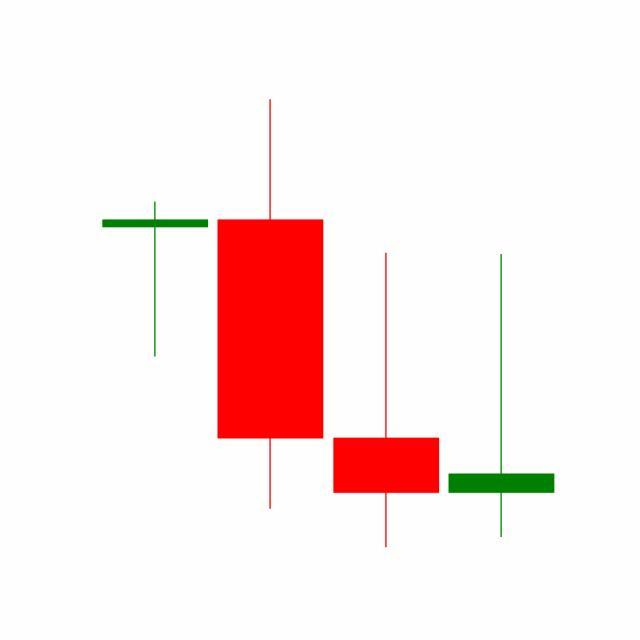Spinning Top: (329, 250, 445, 551)
